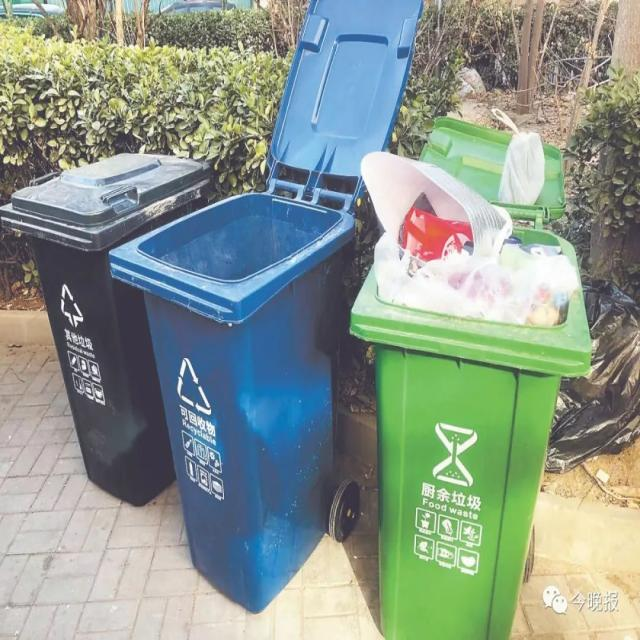garbage_bin: (108, 190, 355, 614), (1, 152, 210, 505)
overflow: (351, 109, 591, 639)
